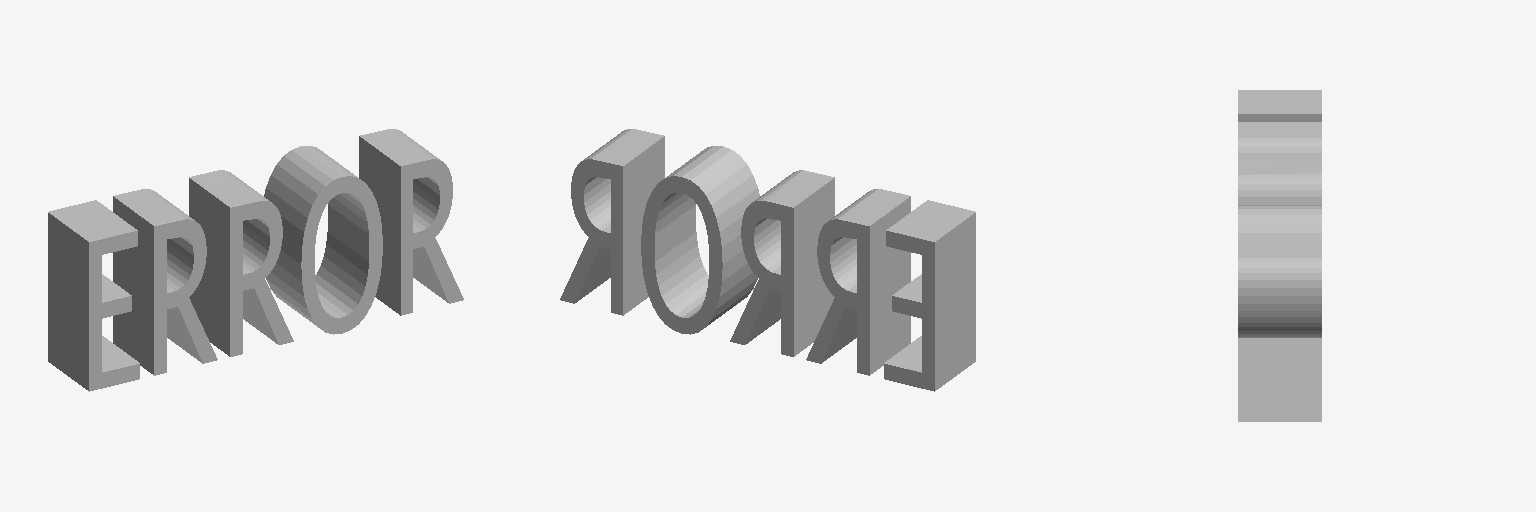
Rendered from error.obj.
3 views of the same model, side by side, from view 1: azimuth 30°, elevation 25°; view 2: azimuth 150°, elevation 25°; view 3: azimuth 270°, elevation 25° (orthographic).
Visible parts, largest first — view 1: typeMesh1; view 2: typeMesh1; view 3: typeMesh1.
Part boxes in pixels (x1,y1,x2,y2): typeMesh1: (48, 129, 463, 391); typeMesh1: (560, 129, 975, 391); typeMesh1: (1238, 90, 1321, 421).
Size of the model in its own units: 0.6869 by 0.2744 by 0.1322.